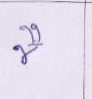ai_matra: (19, 24, 44, 43)
